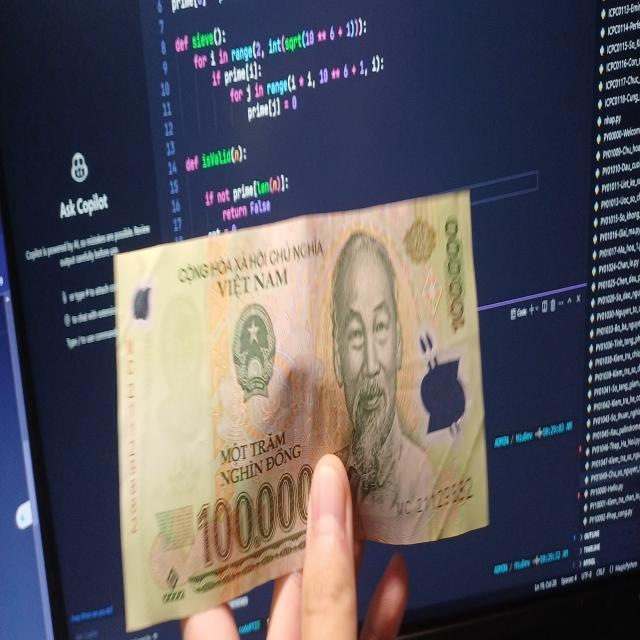100 000 VND: (114, 188, 490, 624)
